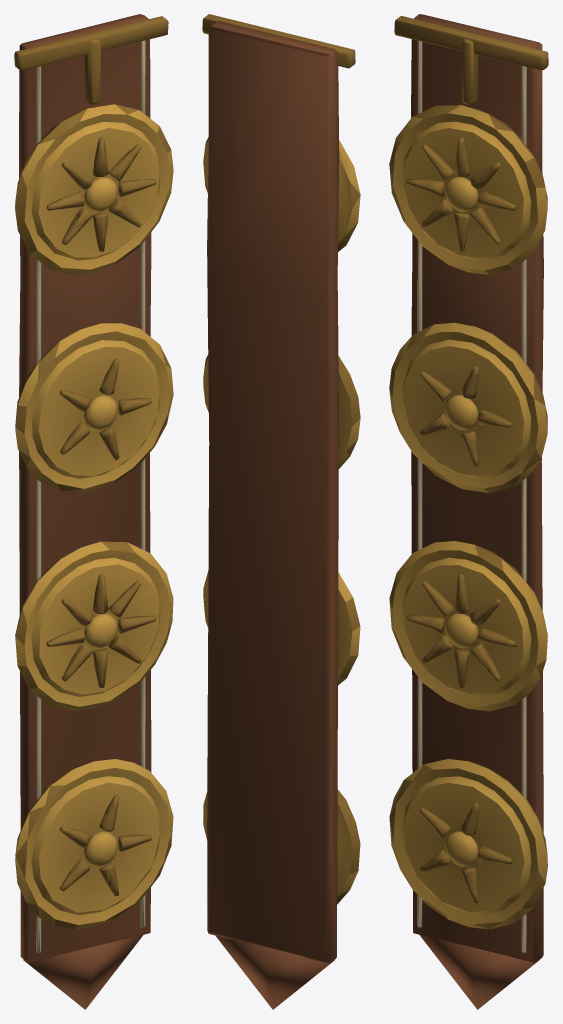
Rendered from ember_horse_brass.glb.
3 renders of one model, left to right at view 1: azimuth 30°, elevation 25°; view 2: azimuth 150°, elevation 25°; view 3: azimuth 330°, elevation 25°, orthographic.
Parts seen in each view (by area): view 1: ember_horse_brass; view 2: ember_horse_brass; view 3: ember_horse_brass.
Part boxes in pixels (x1,y1,x2,y2): ember_horse_brass: (14,14,173,1009); ember_horse_brass: (202,14,360,1009); ember_horse_brass: (389,14,548,1009).
Size of the model in its own units: 7.6 by 44.9 by 2.51.
